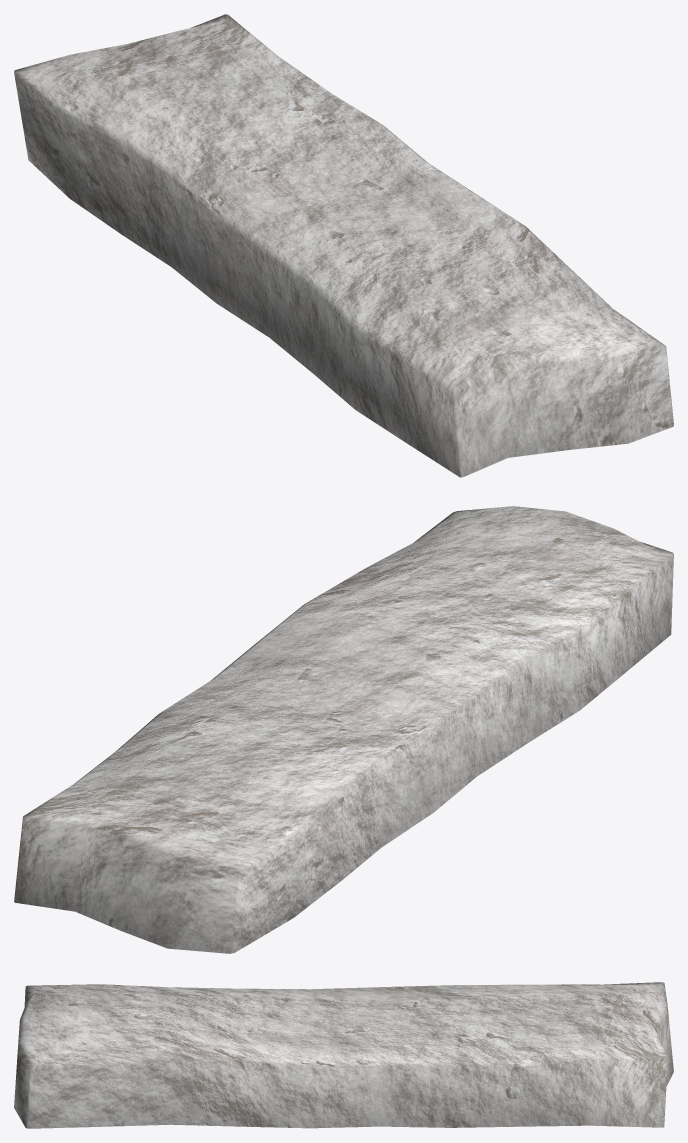
File: step3_LOD0.FBX
The picture shows the model from 3 angles, top to bottom: view 1: azimuth 30°, elevation 25°; view 2: azimuth 150°, elevation 25°; view 3: azimuth 270°, elevation 25°; orthographic projection. The views are drawn at different scales.
Parts seen in each view (by area): view 1: step3_LOD0; view 2: step3_LOD0; view 3: step3_LOD0.
Part boxes in pixels (box(x1,y1,x2,y2)): step3_LOD0: box(14, 14, 673, 477); step3_LOD0: box(14, 506, 673, 953); step3_LOD0: box(14, 982, 673, 1128).
Bounding box in the file's own units: 52.06 × 22.61 × 177.
